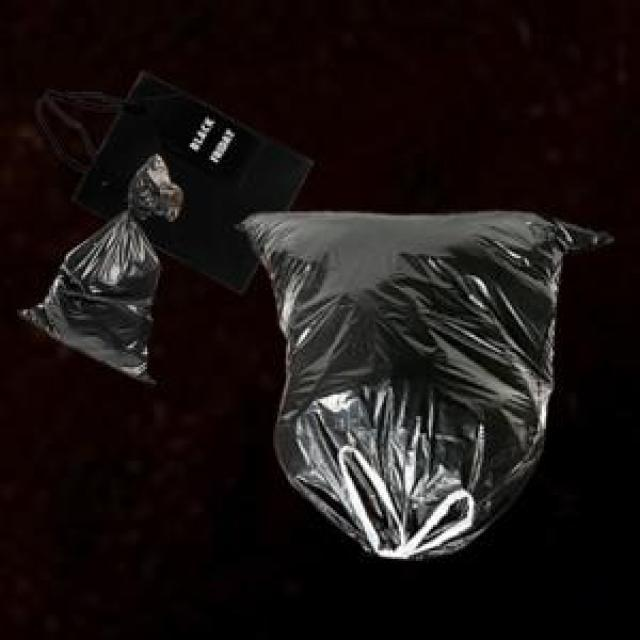miscellaneous trash: (233, 207, 608, 555), (13, 152, 177, 380)
paper: (32, 68, 307, 288)
